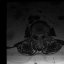CCS_normal: (38, 32, 40, 39)
LFS_normal: (42, 32, 44, 37)
LLS_normal: (40, 32, 42, 38)
RFS_normal: (34, 32, 36, 37)
RLS_normal: (36, 32, 38, 38)
